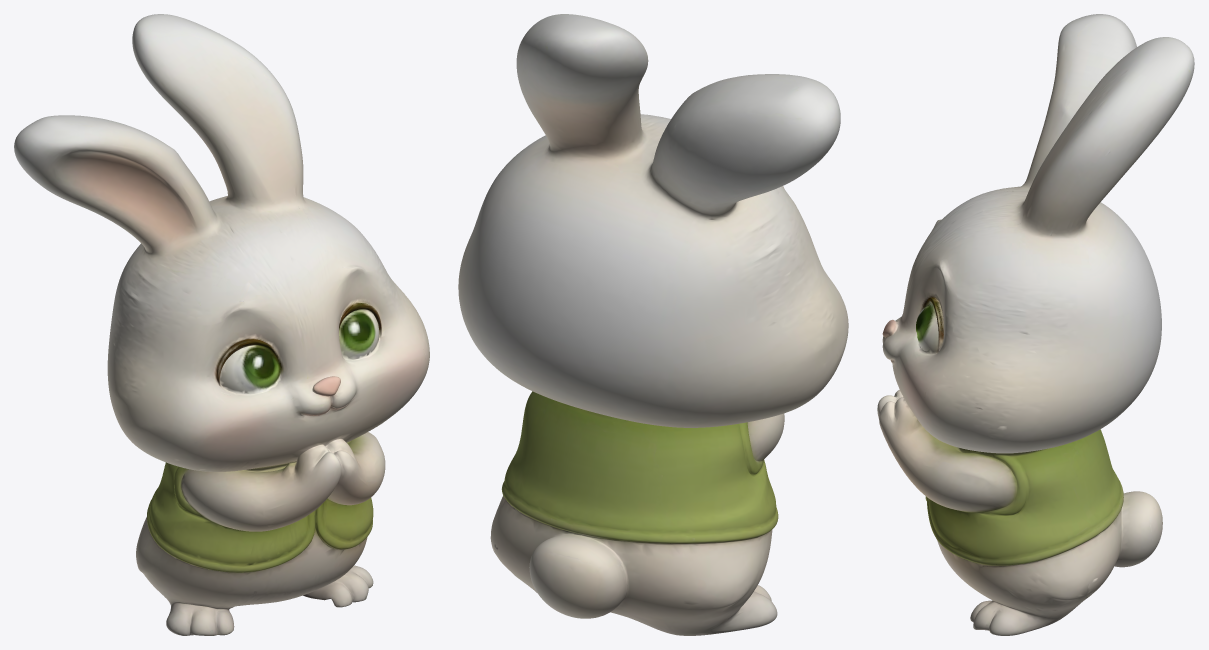
The model's file is meshy-rabbit.glb.
The picture shows the model from 3 angles, left to right: view 1: azimuth 30°, elevation 25°; view 2: azimuth 150°, elevation 25°; view 3: azimuth 270°, elevation 25°; orthographic projection. The views are drawn at different scales.
Parts seen in each view (by area): view 1: node_0; view 2: node_0; view 3: node_0.
Boxes of the visible parts, <box> form: node_0: <box>14,14,429,635</box>; node_0: <box>458,14,848,635</box>; node_0: <box>877,14,1194,635</box>.
Size of the model in its own units: 0.7274 by 1.08 by 0.5814.
Materials: 1 (1 with a texture image).
